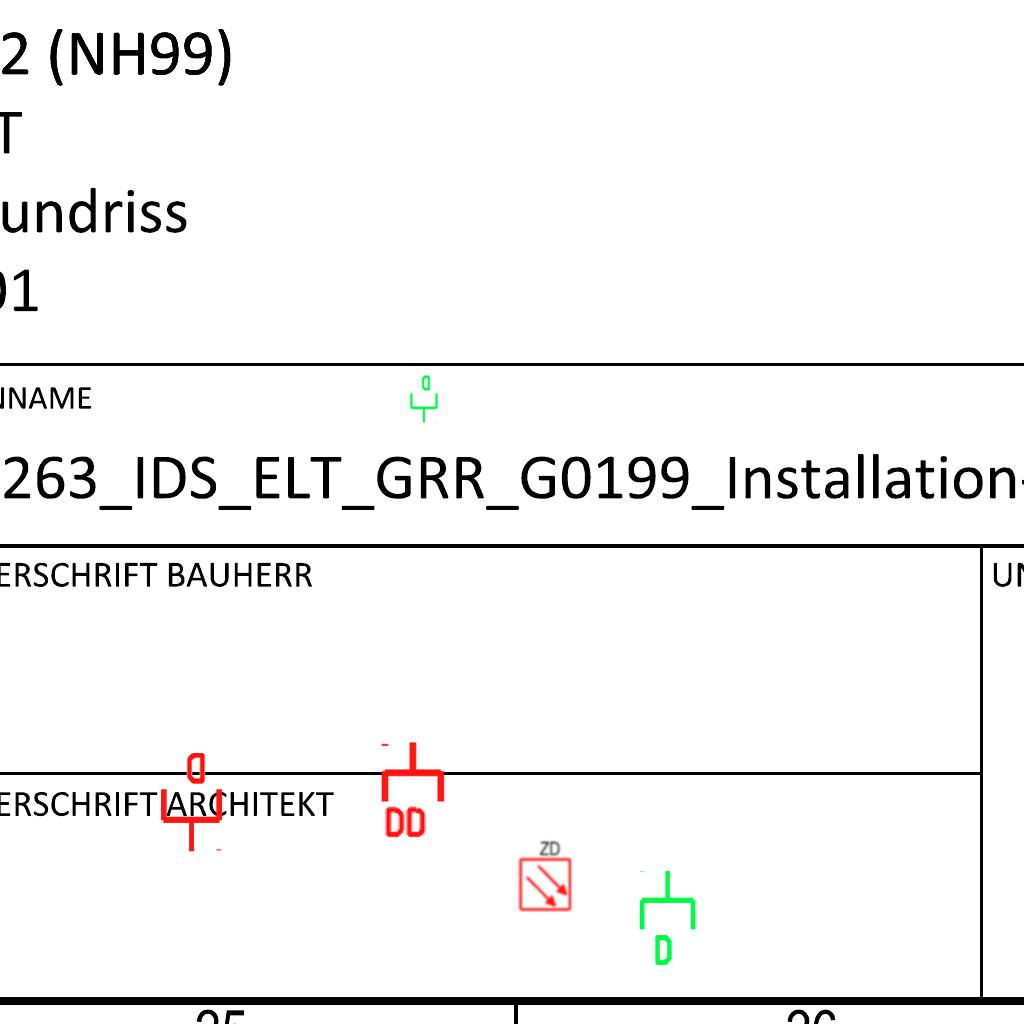Datenanschluss_einfach: (157, 753, 226, 853), (635, 868, 704, 968), (406, 374, 440, 424)
Datenanschluss_zweifach: (380, 739, 449, 842)
ZD_Melder_in_Zwischendecke_mit_Revisionsoeffnung_mind_40_x_40_cm: (516, 838, 573, 912)
